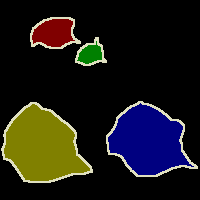hat: (2, 102, 92, 182), (107, 102, 198, 176), (31, 18, 80, 48), (76, 37, 107, 65)
